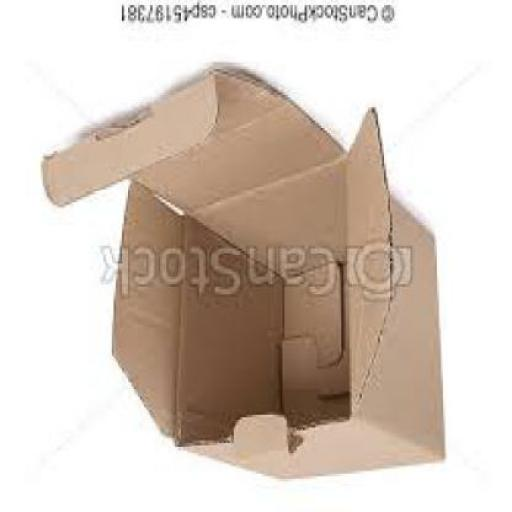cardboard: (44, 69, 447, 484)
